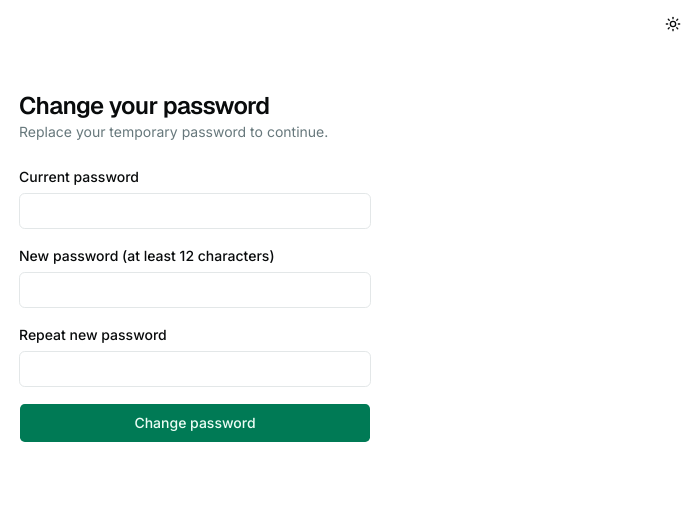
Test case: change password › shows a server rejection
Type "x" into the password field labelled "Current password" at (195, 211), box x1=19 y1=193 x2=371 y2=229
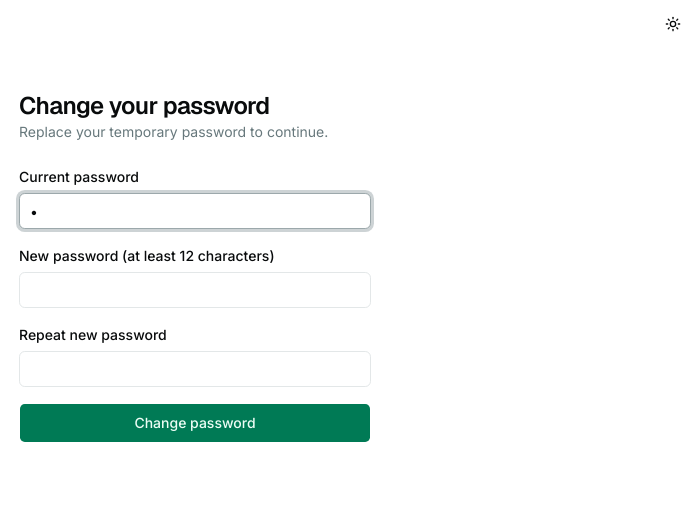
Type "a much longer password" into the password field labelled "New password (at least 12 characters)" at (195, 290), box x1=19 y1=272 x2=371 y2=308
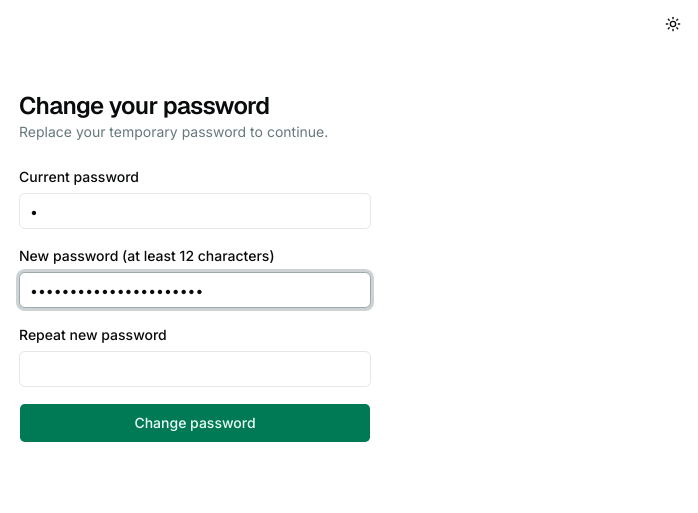
Type "a much longer password" into the password field labelled "Repeat new password" at (195, 369), box x1=19 y1=351 x2=371 y2=387
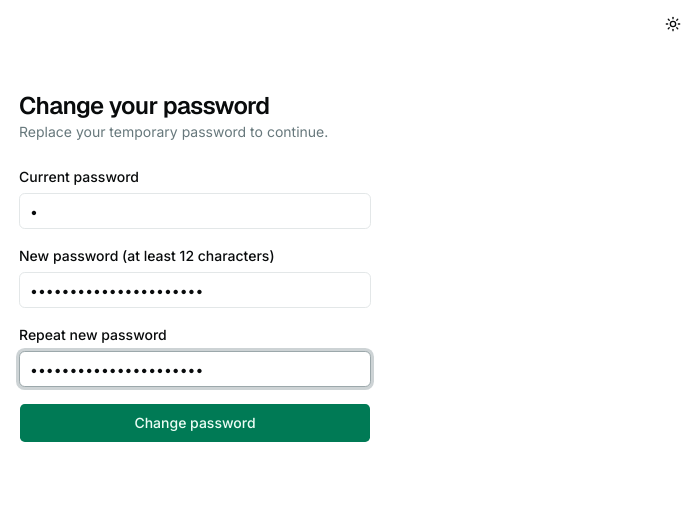
Click the button "Change password" at (195, 423), box x1=19 y1=403 x2=371 y2=443
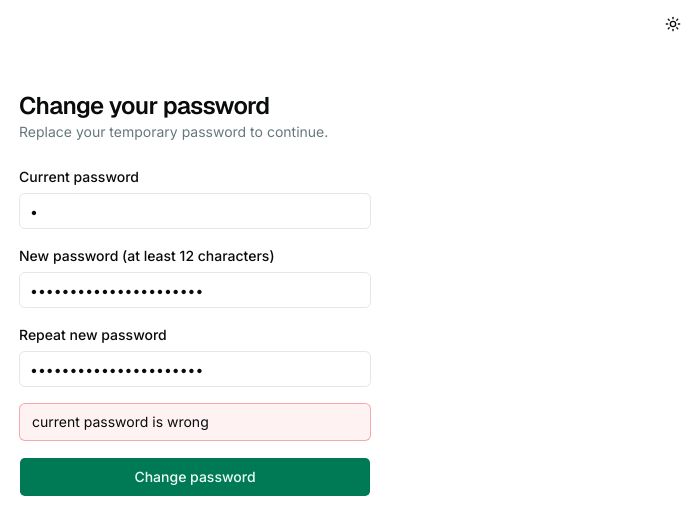
Now the message reads "current password is wrong", box x1=32 y1=413 x2=209 y2=430
